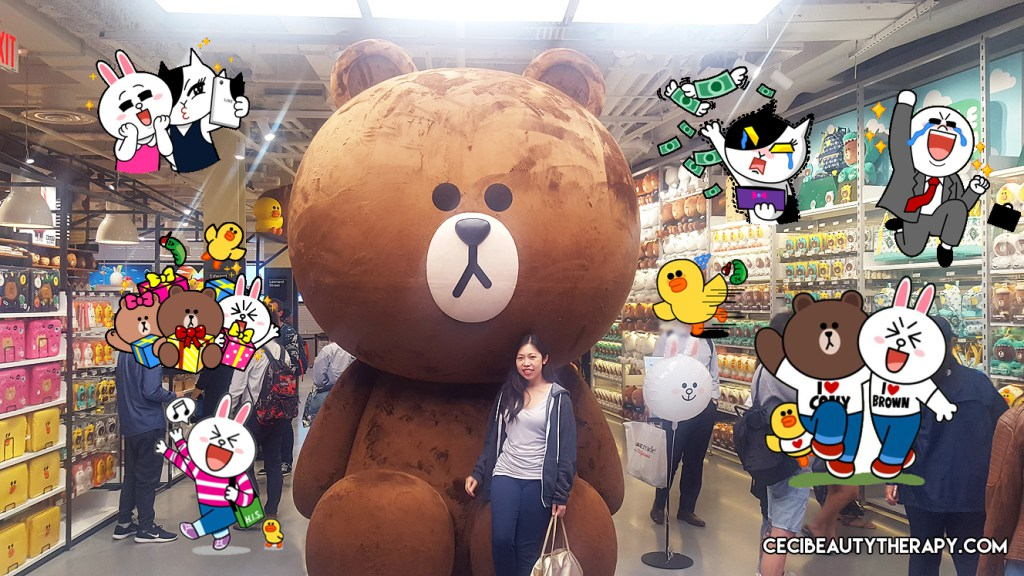line_brown: (278, 36, 645, 396)
